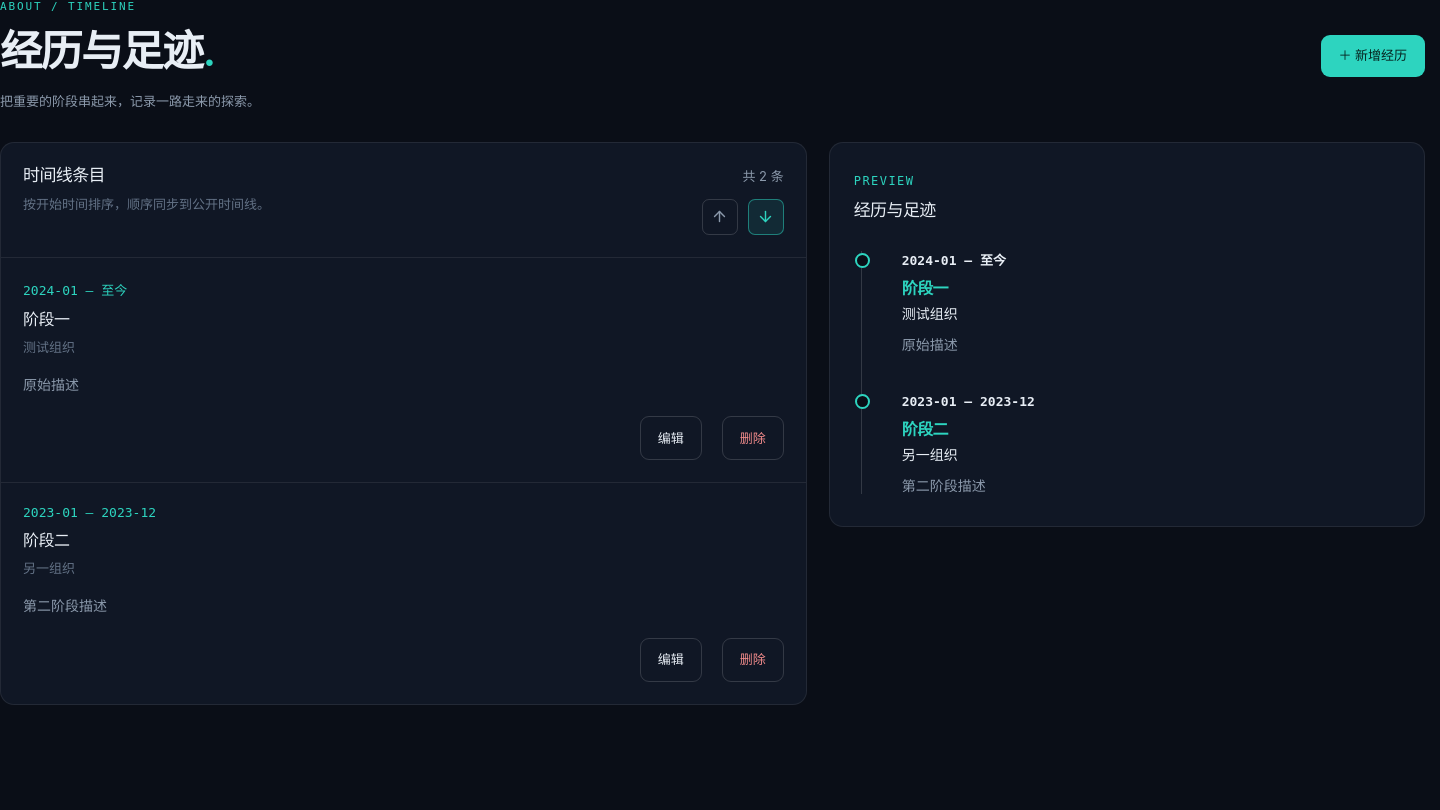
Test: 经历与足迹参考交互 › 排序即时保存，删除确认后可按原位置撤销
Expected: the button "＋ 新增经历" is shown, [1320,35,1425,77]
Click the button named "时间顺序". click: (720, 217)
box: [702,199,738,235]
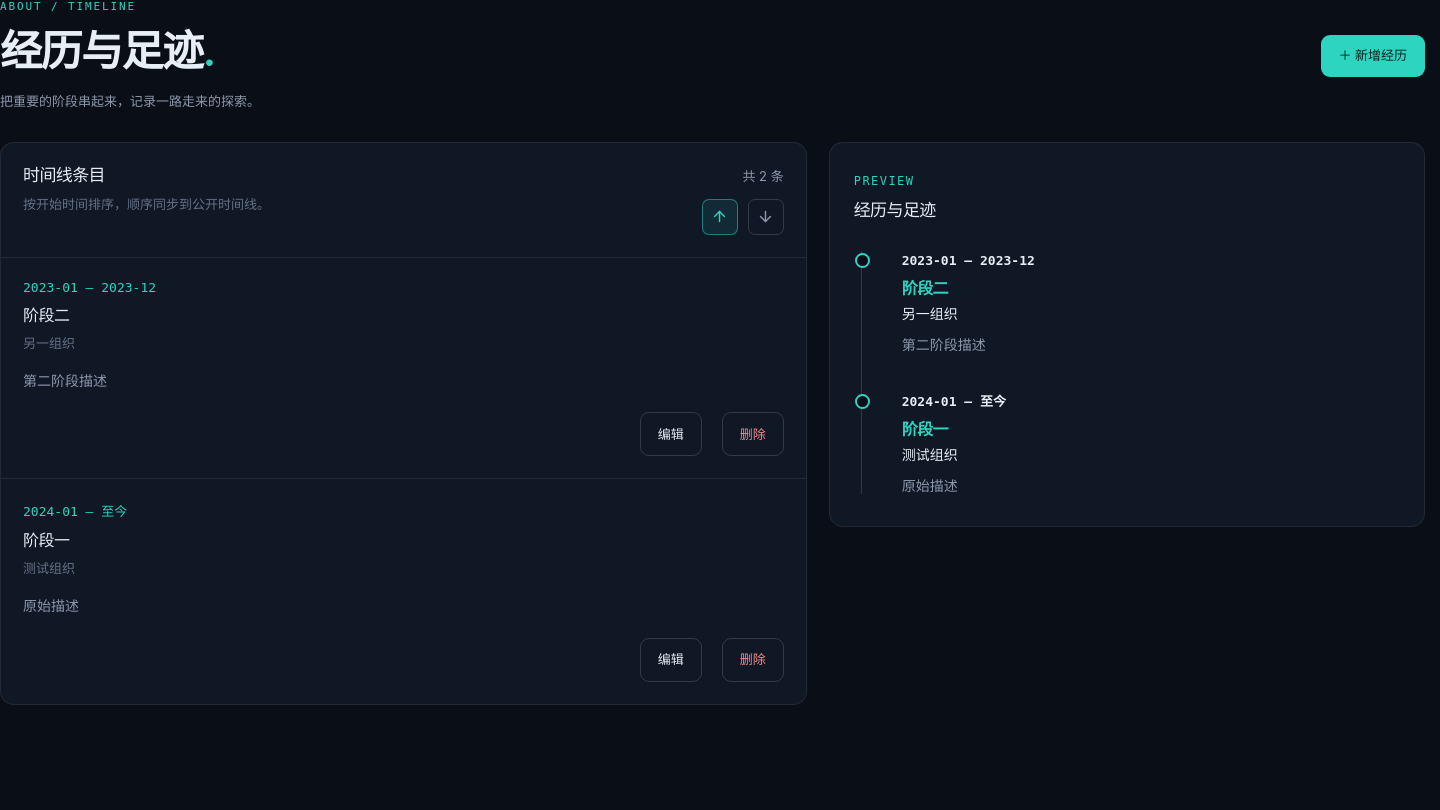
Expected: the heading "阶段二" below "PREVIEW" is shown, [902,278,948,298]
Expected: the button "＋ 新增经历" is enabled, [1320,35,1425,77]
Click the 1st button "删除". click: (753, 434)
box: [722,412,784,456]
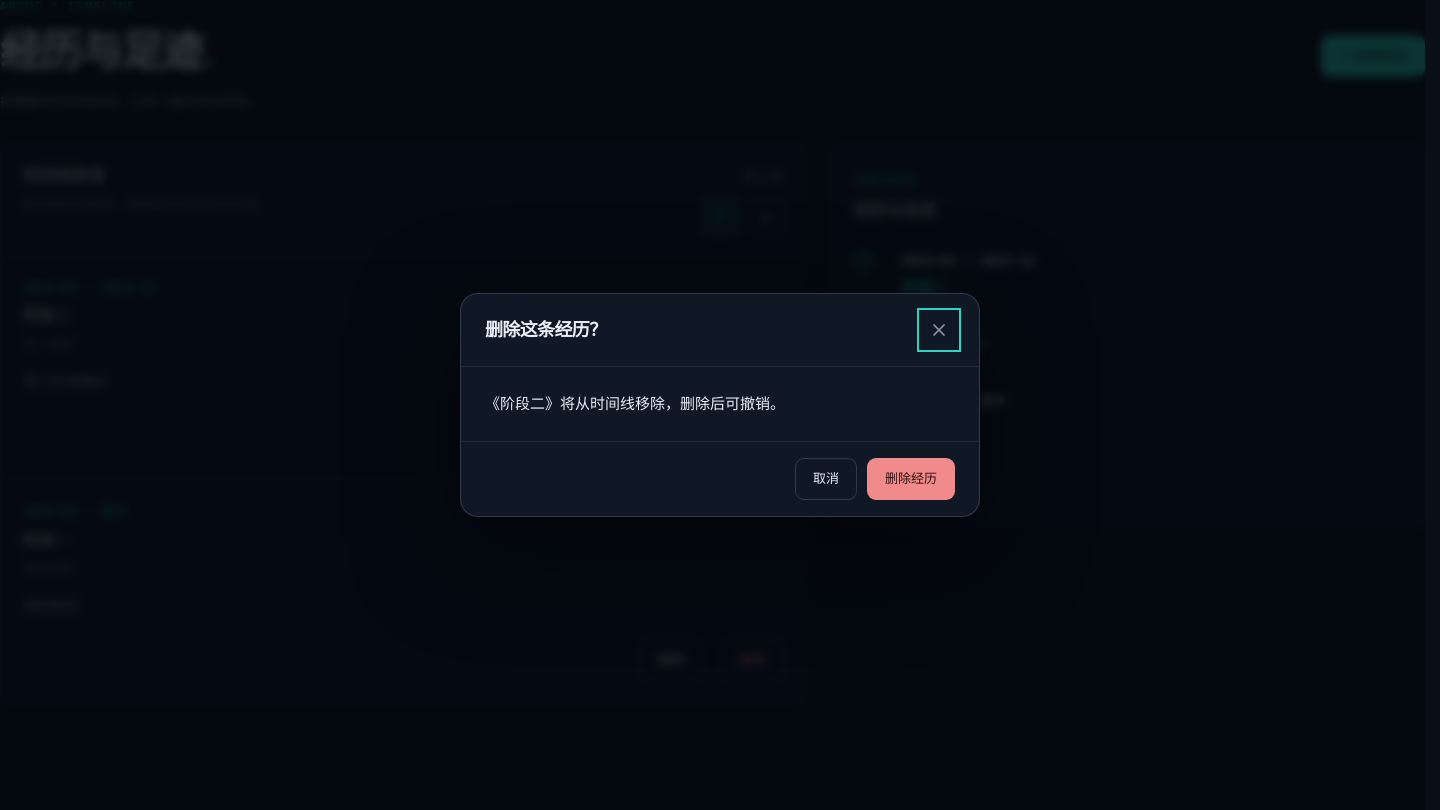
Click the button "删除经历". click: (911, 479)
box: [867,458,955,500]
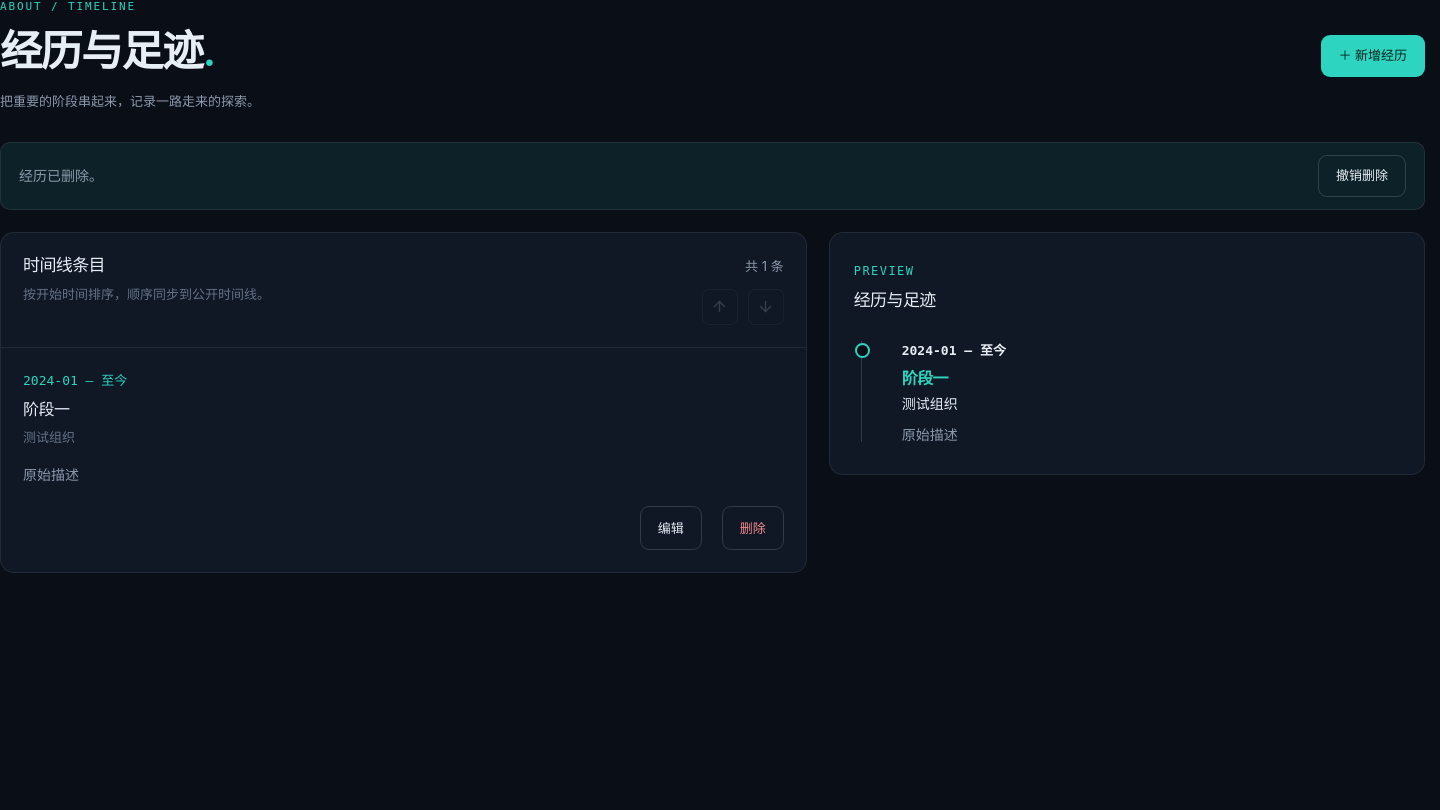
Expected: the heading "阶段二" is not shown
Click the button "撤销删除". click: (1362, 176)
box: [1318,155,1406,197]
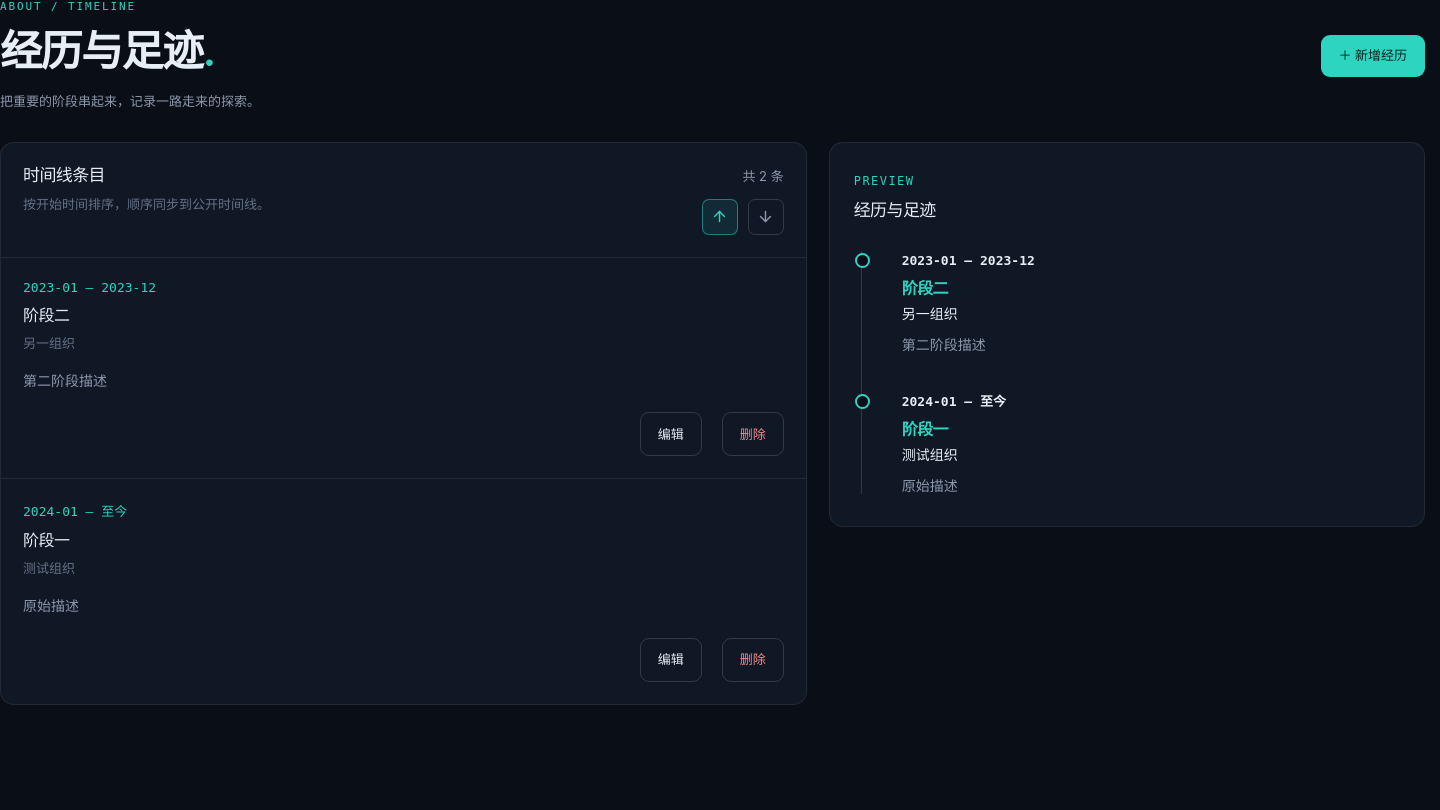
Expected: the headings read "阶段二", "阶段一", in this order, [902,278,948,298]; [902,419,948,439]
